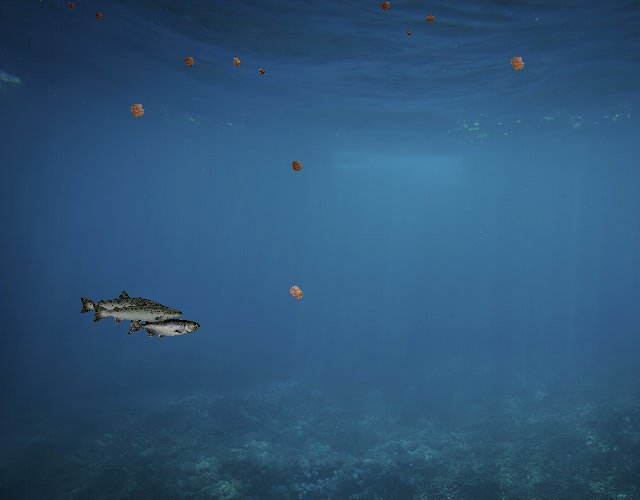Fish: (90, 295, 184, 329), (78, 289, 164, 320), (128, 314, 201, 340)
Pellet: (282, 279, 310, 307), (123, 97, 151, 125), (286, 155, 308, 177), (228, 53, 245, 71), (256, 65, 268, 77)
